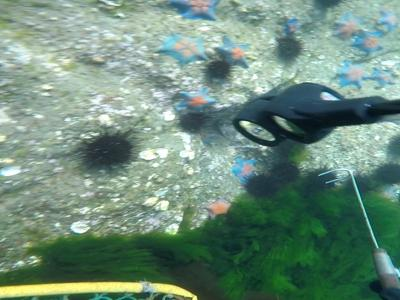urchin: (86, 132, 133, 168), (245, 174, 276, 195), (176, 112, 202, 132), (278, 37, 300, 60), (274, 162, 298, 183), (209, 57, 231, 77), (375, 163, 395, 185)
